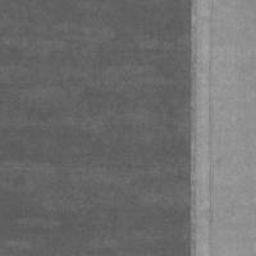Welding line: (187, 0, 198, 256)
